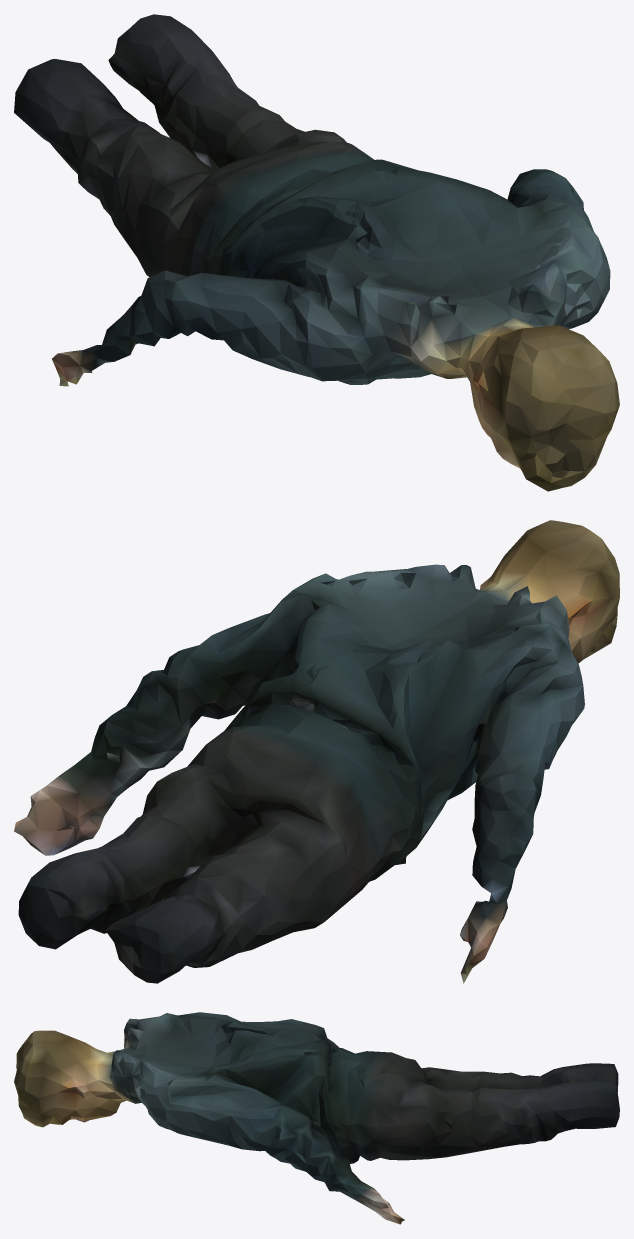
Rendered from alex_simulator.obj.
3 renders of one model, top to bottom at view 1: azimuth 30°, elevation 25°; view 2: azimuth 150°, elevation 25°; view 3: azimuth 270°, elevation 25°, orthographic. The views are drawn at different scales.
Size of the model in its own units: 0.8087 by 0.3552 by 1.45.
